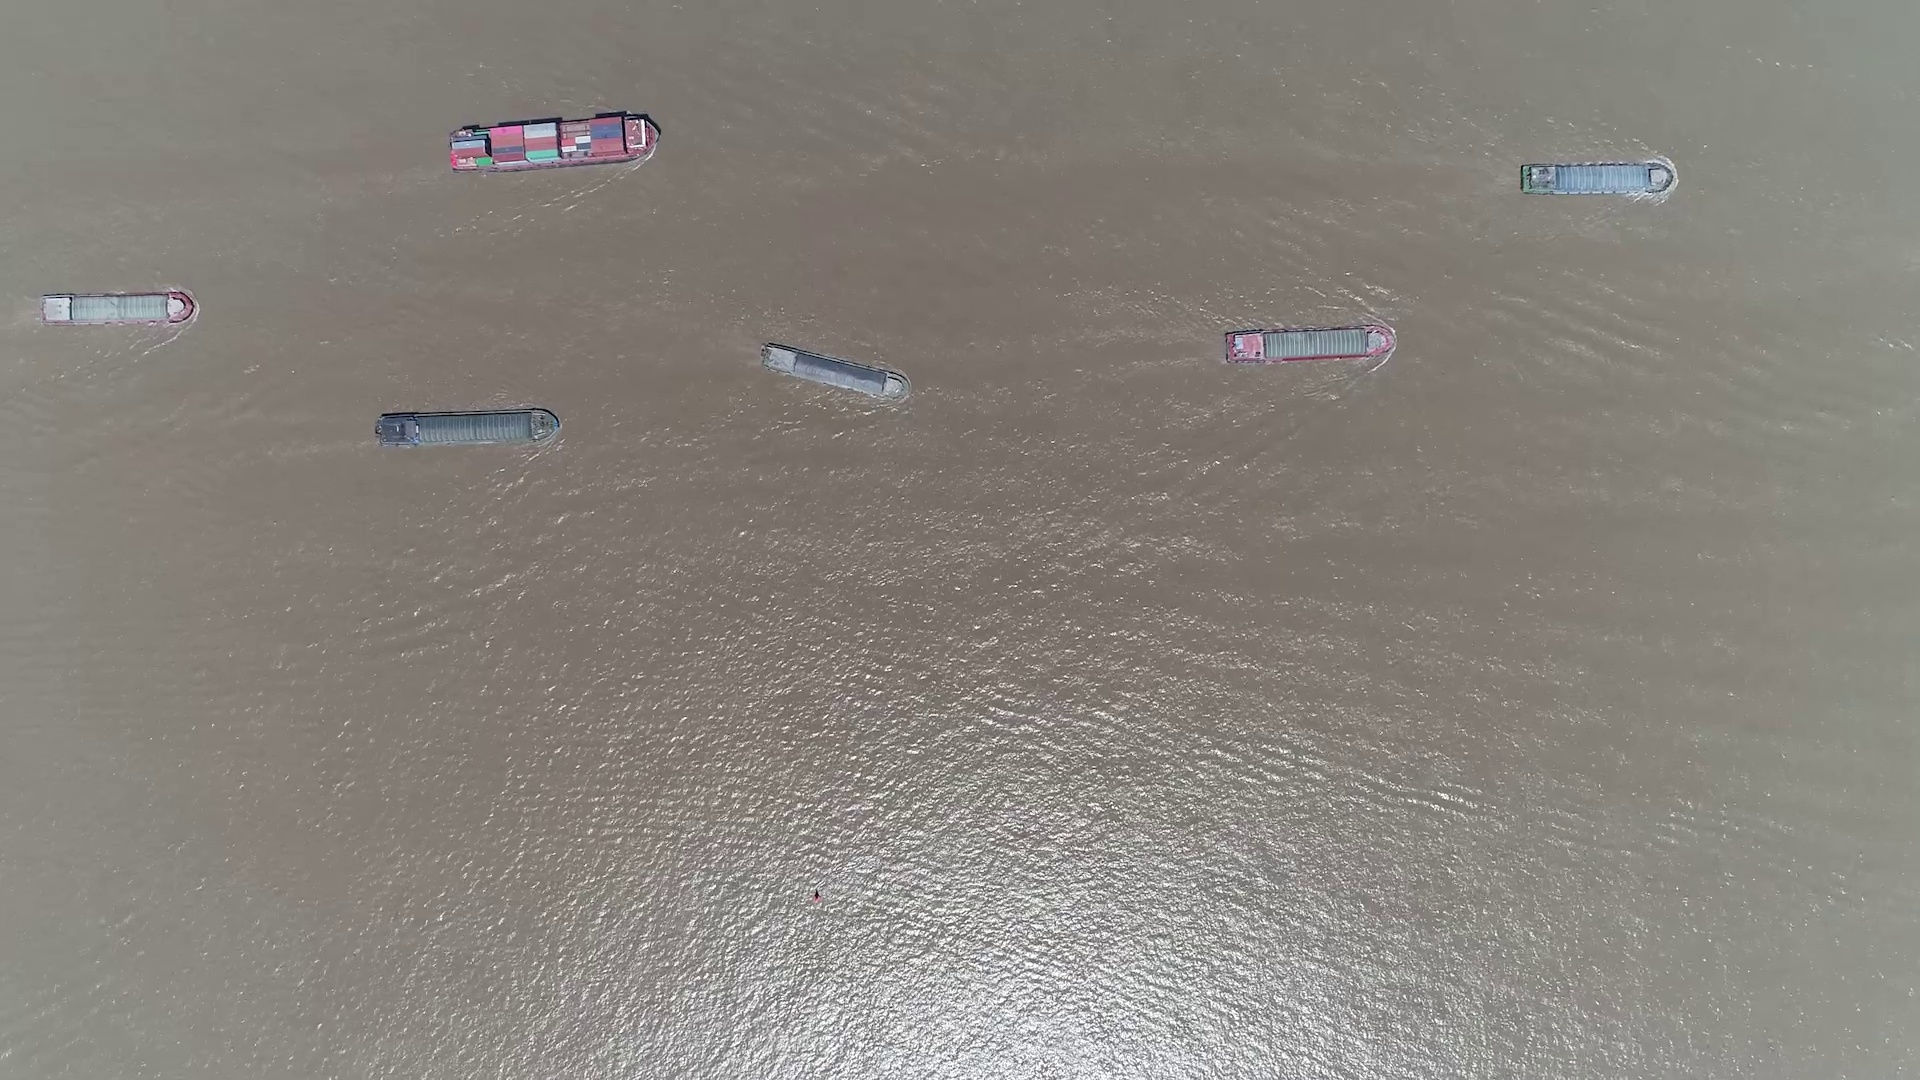ship: (444, 116, 655, 170), (760, 342, 909, 400), (376, 407, 556, 447), (1226, 324, 1396, 364), (36, 291, 193, 324), (1522, 164, 1672, 196)
